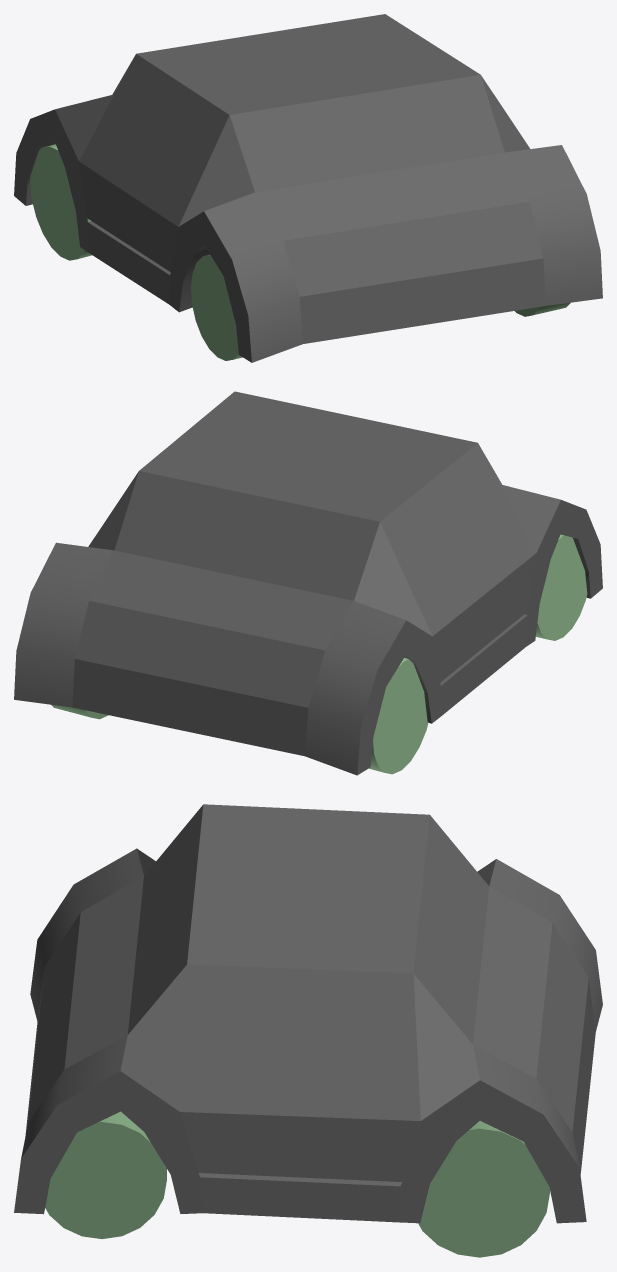
The model's file is o1iii.glb.
3 views of the same model, one above another, from view 1: azimuth 30°, elevation 25°; view 2: azimuth 150°, elevation 25°; view 3: azimuth 270°, elevation 25° (orthographic). The views are drawn at different scales.
Visible parts, largest first — view 1: body, pCylinder5; view 2: body, pCylinder5; view 3: body, pCylinder4.
Boxes of the visible parts, box(x1,y1,x2,y2) form: body: box(14, 14, 602, 362); pCylinder5: box(30, 144, 242, 360); body: box(14, 391, 602, 775); pCylinder5: box(369, 534, 587, 774); body: box(14, 804, 602, 1223); pCylinder4: box(45, 1111, 549, 1257).
Bounding box in the file's own units: 0.075 × 0.0491 × 0.0905.
